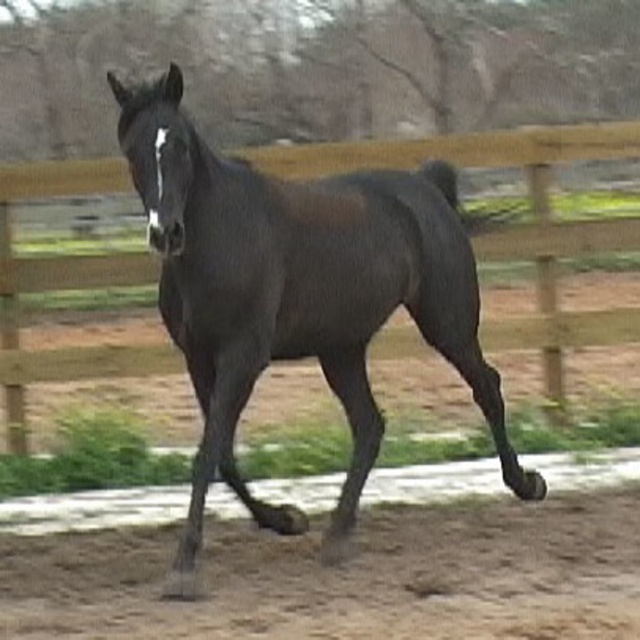Horse: (101, 60, 549, 604)
